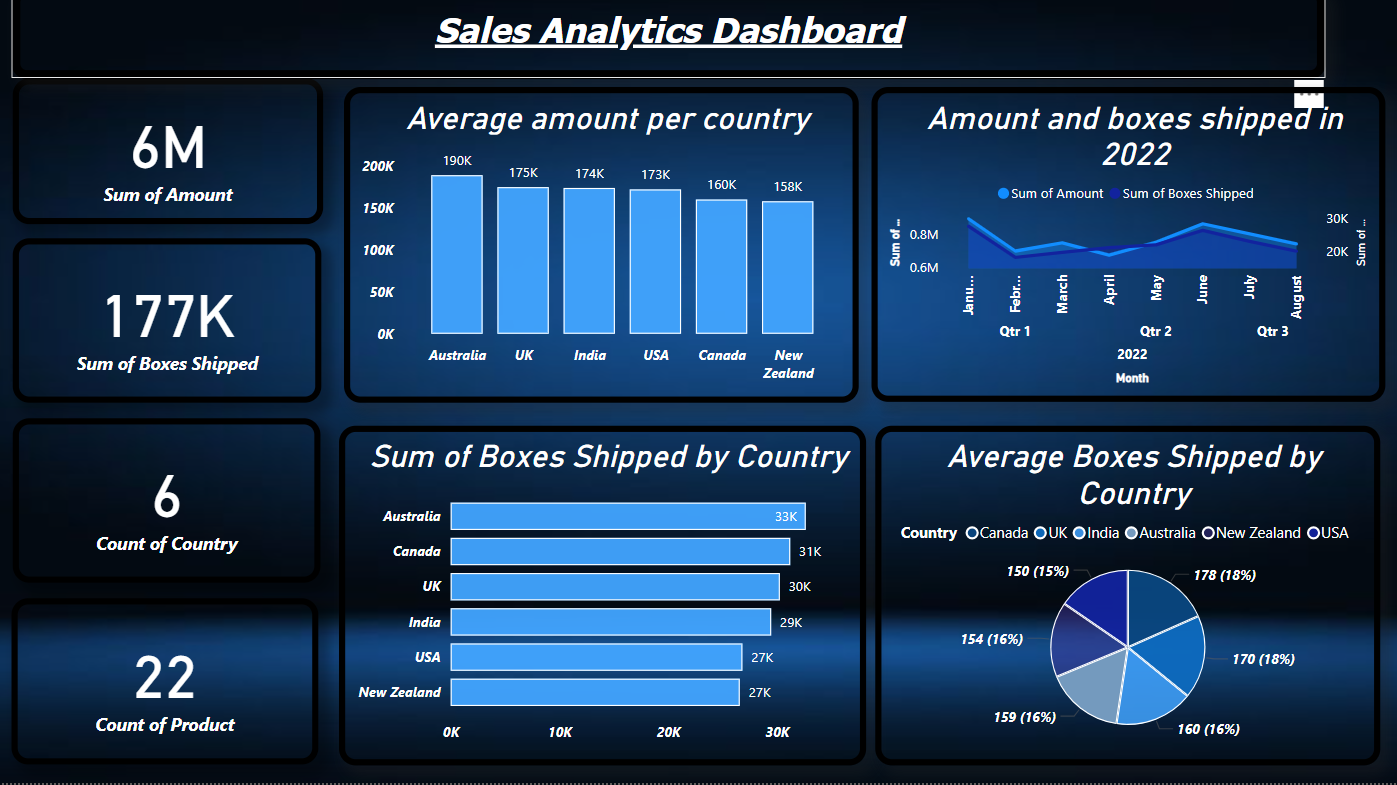

This screenshot's page, from the dashboard's own definition file:
{"tool":"powerbi","page":{"name":"Page 1","canvas":[1280,720],"ordinal":0},"visuals":[{"type":"card","fields":{"Values":["Sum(data.Amount)"]},"box":[12.5,83,280.7,131.8],"z":0},{"type":"card","fields":{"Values":["Sum(data.Boxes Shipped)"]},"box":[12.5,227.3,279.5,148.9],"z":1000},{"type":"card","fields":{"Values":["Count(data.Country)"]},"box":[12.5,389.8,278.4,148.9],"z":2000},{"type":"card","fields":{"Values":["Count(data.Product)"]},"box":[11.4,553.4,277.3,150],"z":3000},{"type":"textbox","box":[11.4,0,1188.6,83],"z":4000},{"type":"clusteredColumnChart","title":"Average amount per country","fields":{"Y":["Sum(data.Average amount per country)"],"Category":["data.Country"]},"box":[312.5,90.9,465.9,285.2],"z":5000},{"type":"barChart","fields":{"Category":["data.Country"],"Y":["Sum(data.Boxes Shipped)"]},"box":[307,396.5,476.7,307],"z":6000},{"type":"pieChart","title":"Average Boxes Shipped by Country","fields":{"Category":["data.Country"],"Y":["Avg(data.Boxes Shipped)"]},"box":[793,396.5,457,307],"z":7000},{"type":"areaChart","title":"Amount and  boxes shipped in 2022","fields":{"Category":["data.Date.Variation.Date Hierarchy.Year","data.Date.Variation.Date Hierarchy.Quarter","data.Date.Variation.Date Hierarchy.Month","data.Date.Variation.Date Hierarchy.Day","data.Country"],"Y":["Sum(data.Amount)"],"Y2":["Sum(data.Boxes Shipped)"]},"box":[789.5,90.7,465.1,284.9],"z":8000}]}

Visuals, with their boxes in screenshot pixels (x1, y1, x2, y2), scaled from the page's 1280x720 canvas onto the 1397x785 screenshot:
card - Sum(data.Amount): 14,90,320,234
card - Sum(data.Boxes Shipped): 14,248,319,410
card - Count(data.Country): 14,425,317,587
card - Count(data.Product): 12,603,315,767
textbox: 12,0,1310,90
"Average amount per country" clusteredColumnChart: 341,99,850,410
barChart - data.Country x Sum(data.Boxes Shipped): 335,432,855,767
"Average Boxes Shipped by Country" pieChart: 865,432,1364,767
"Amount and  boxes shipped in 2022" areaChart: 862,99,1369,410
